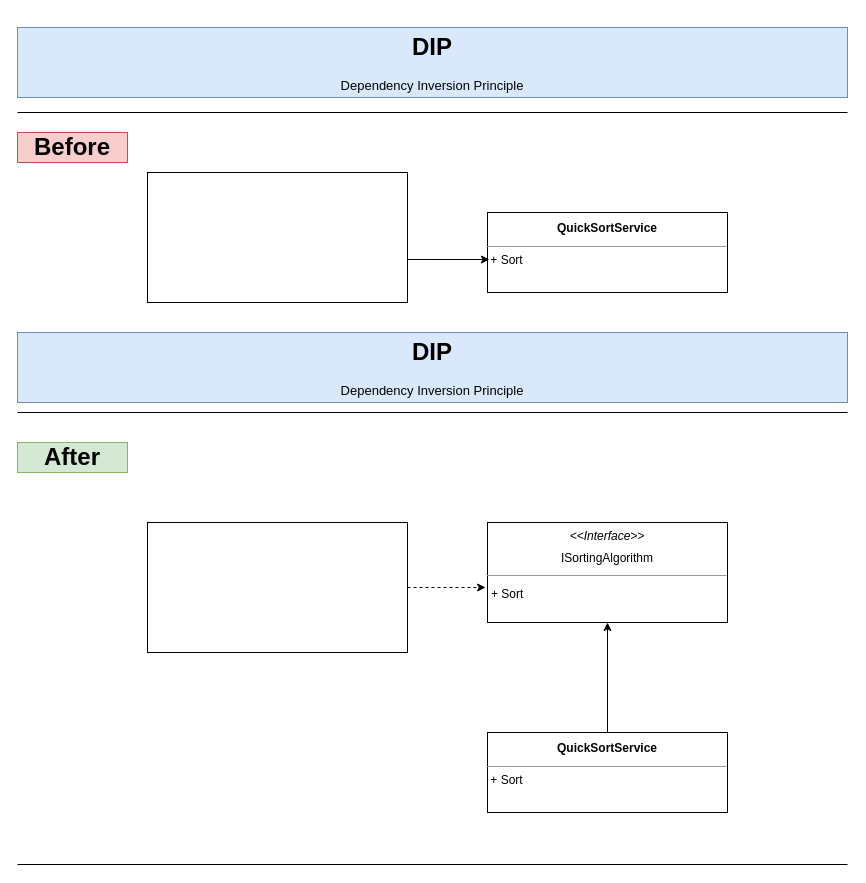
Image size: 866x883. Some labels were removed from this diagram. Here are the shapes that lost their labels. From the top down, the box of each, then its label:
(146, 172, 408, 302): AddressBook - _sortingAlgorithm: QuickSortService + GetSortedAddresses
(146, 522, 408, 652): AddressBook - _sortingAlgorithm: ISortingAlgorithm + GetSortedAddresses
